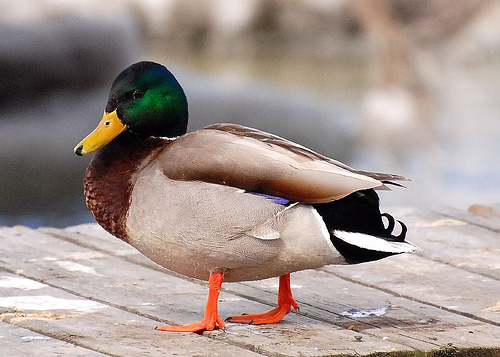duck: (60, 51, 432, 344)
